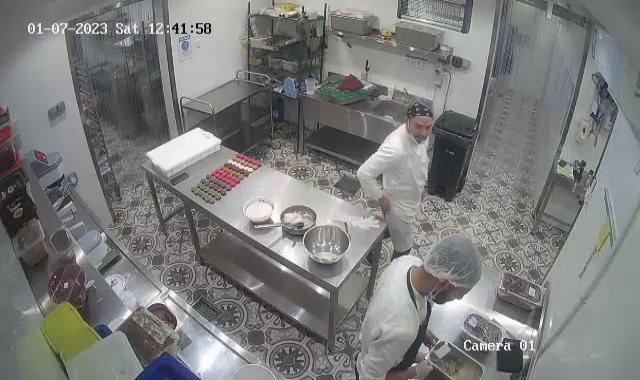hairnet: (421, 234, 484, 296)
no_hairnet: (406, 99, 434, 133)
